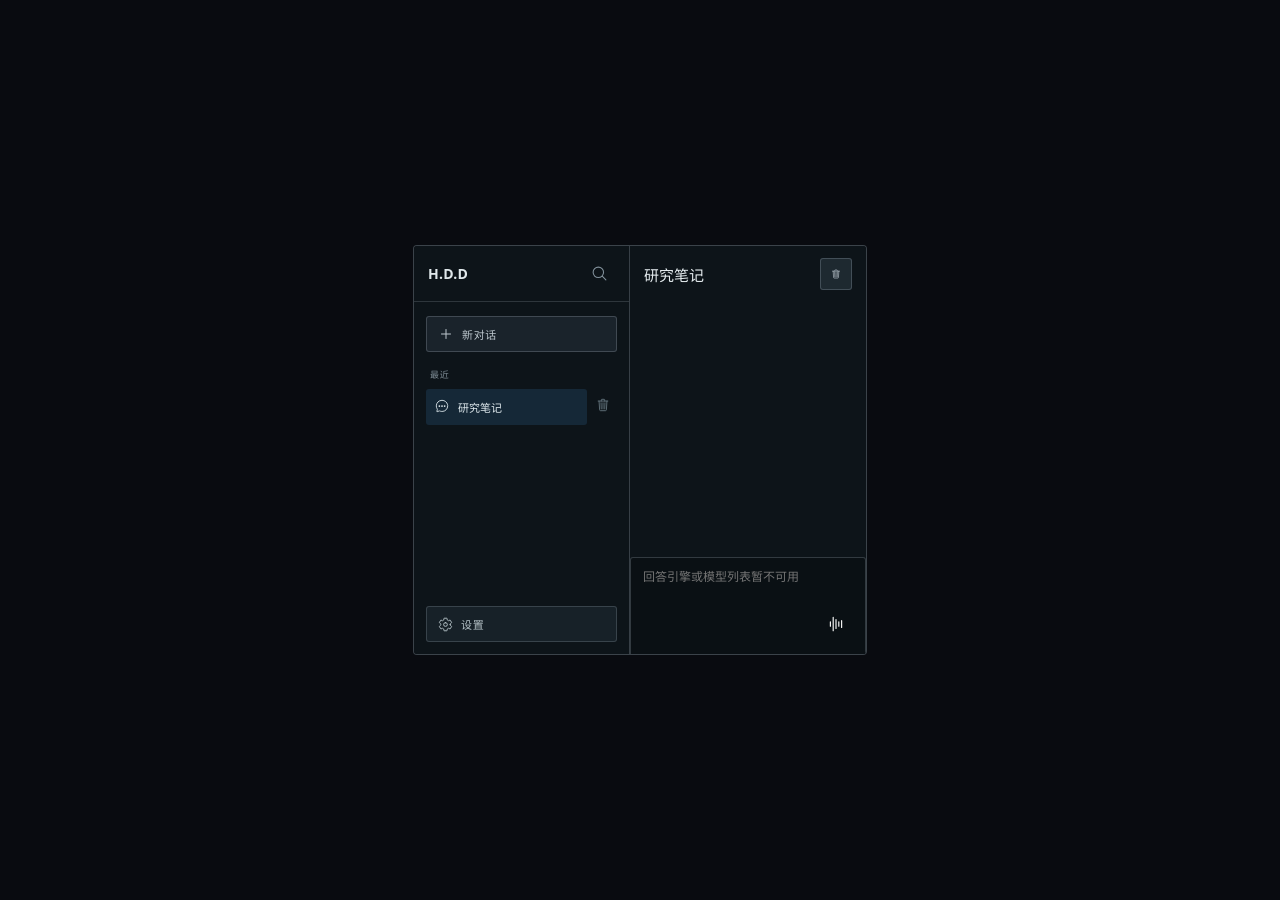
Test: H.D.D V2 页面 › deletes a conversation from the list after confirmation
Click the button named "删除会话：研究笔记" at (603, 405), box [589, 389, 617, 421]
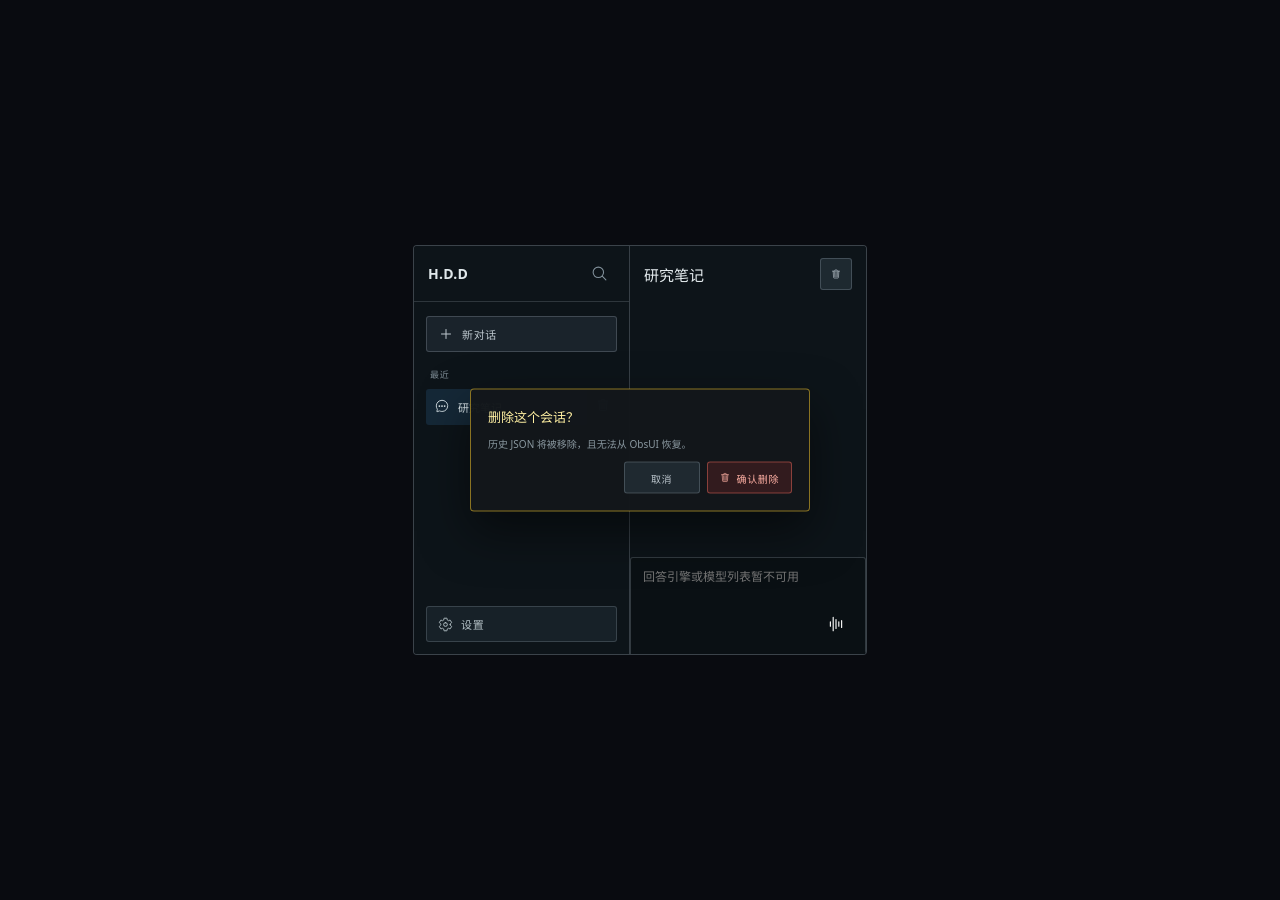
Expected: the dialog shows "删除这个会话？", [488, 408, 579, 426]
Click the button with aria-label "确认删除" at (749, 478), box [707, 462, 792, 494]
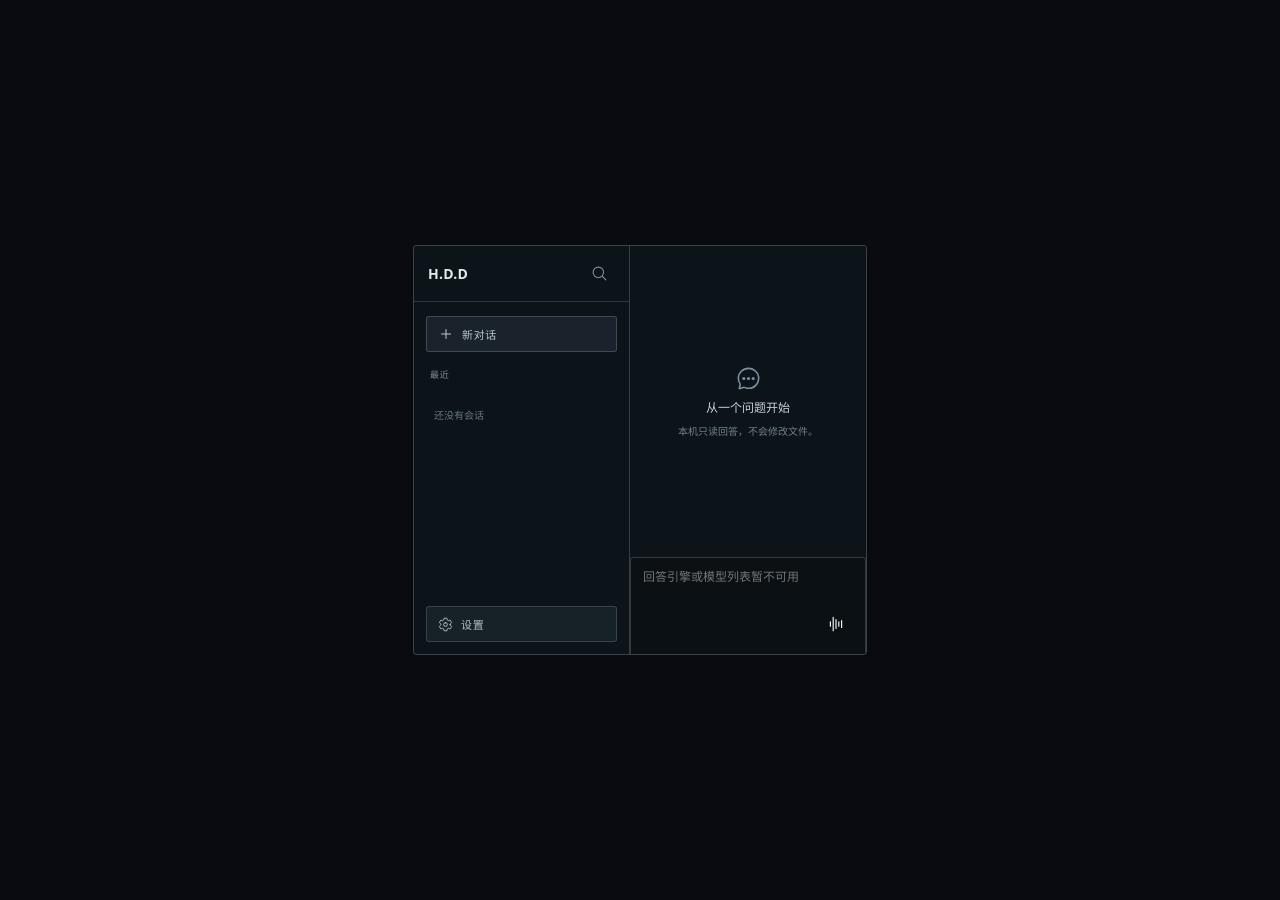
Expected: the button named "删除会话：研究笔记" is gone
Expected: the element with class "is-empty" showing "从一个问题开始 本机只读回答，不会修改文件。" is shown, [630, 246, 866, 654]
